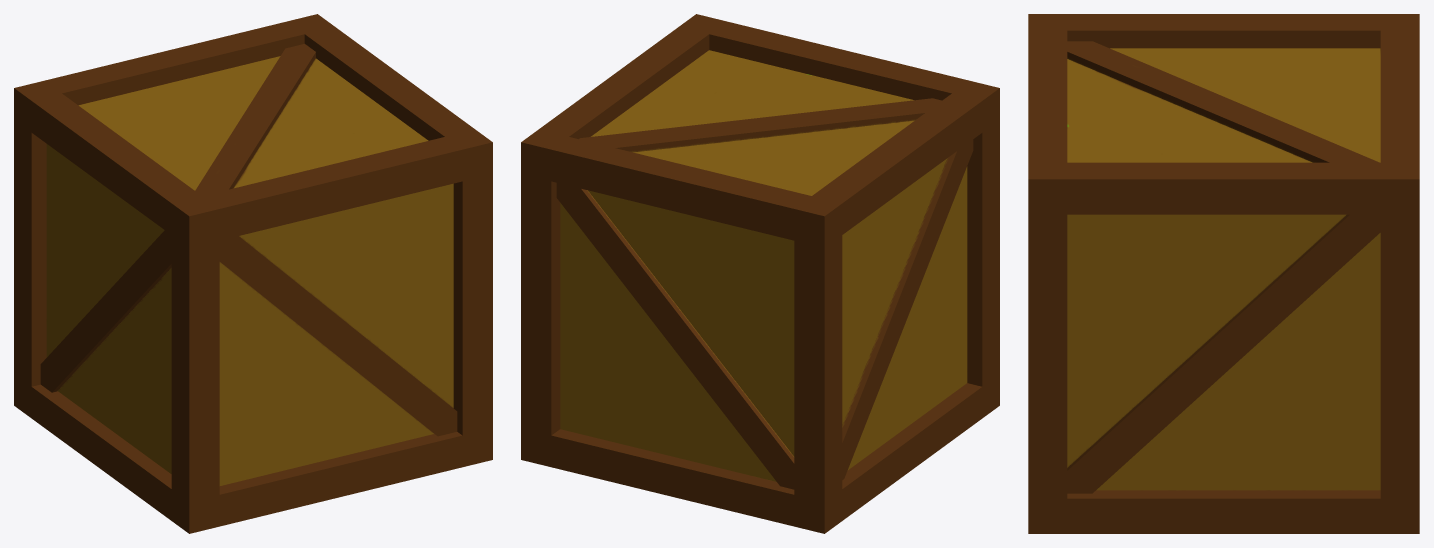
File: Caja.fbx
The picture shows the model from 3 angles, left to right: view 1: azimuth 30°, elevation 25°; view 2: azimuth 150°, elevation 25°; view 3: azimuth 270°, elevation 25°; orthographic projection. The views are drawn at different scales.
Visible parts, largest first — view 1: Caja; view 2: Caja; view 3: Caja.
Part boxes in pixels (x1=…): Caja: x1=14, y1=14, x2=492, y2=533; Caja: x1=521, y1=14, x2=999, y2=533; Caja: x1=1028, y1=14, x2=1419, y2=533.
Bounding box in the file's own units: 118 × 118 × 118.
